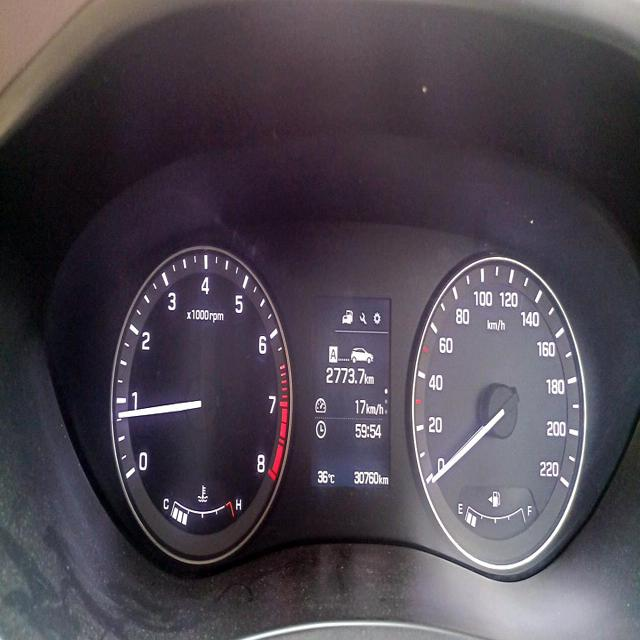odometer: (351, 466, 380, 486)
